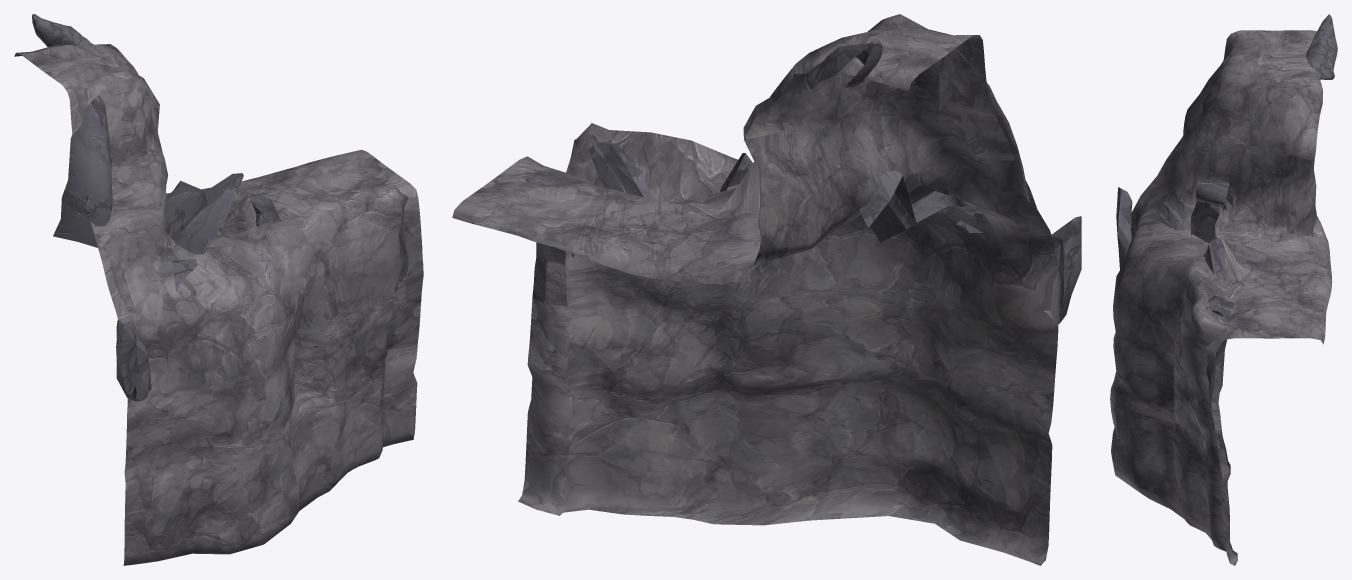
Rendered from Ground Wall (down) 1.fbx.
3 renders of one model, left to right at view 1: azimuth 30°, elevation 25°; view 2: azimuth 150°, elevation 25°; view 3: azimuth 270°, elevation 25°, orthographic. The views are drawn at different scales.
Visible parts, largest first — view 1: GroundWallDown1; view 2: GroundWallDown1; view 3: GroundWallDown1.
Boxes of the visible parts, <box> form: GroundWallDown1: <box>14,14,423,565</box>; GroundWallDown1: <box>452,14,1081,565</box>; GroundWallDown1: <box>1110,14,1337,565</box>.
Bounding box in the file's own units: 10.79 × 13.16 × 6.48.
4 materials, 4 textured.
